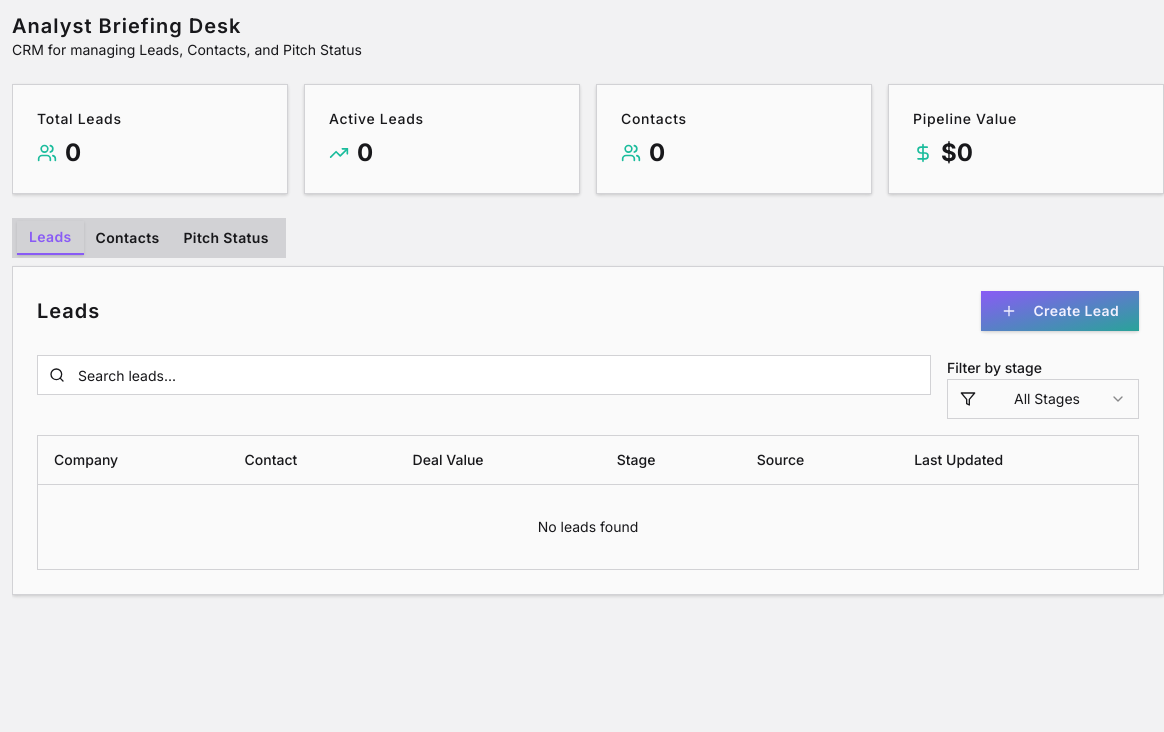
Analyst Briefing Desk - CRM View › Contacts Tab Functionality › BUG: Contacts tab should display stakeholders table
The image size is (1164, 732).
Note: Find and click contacts tab
Click the tab "Contacts": (127, 238) [84,222,171,254]
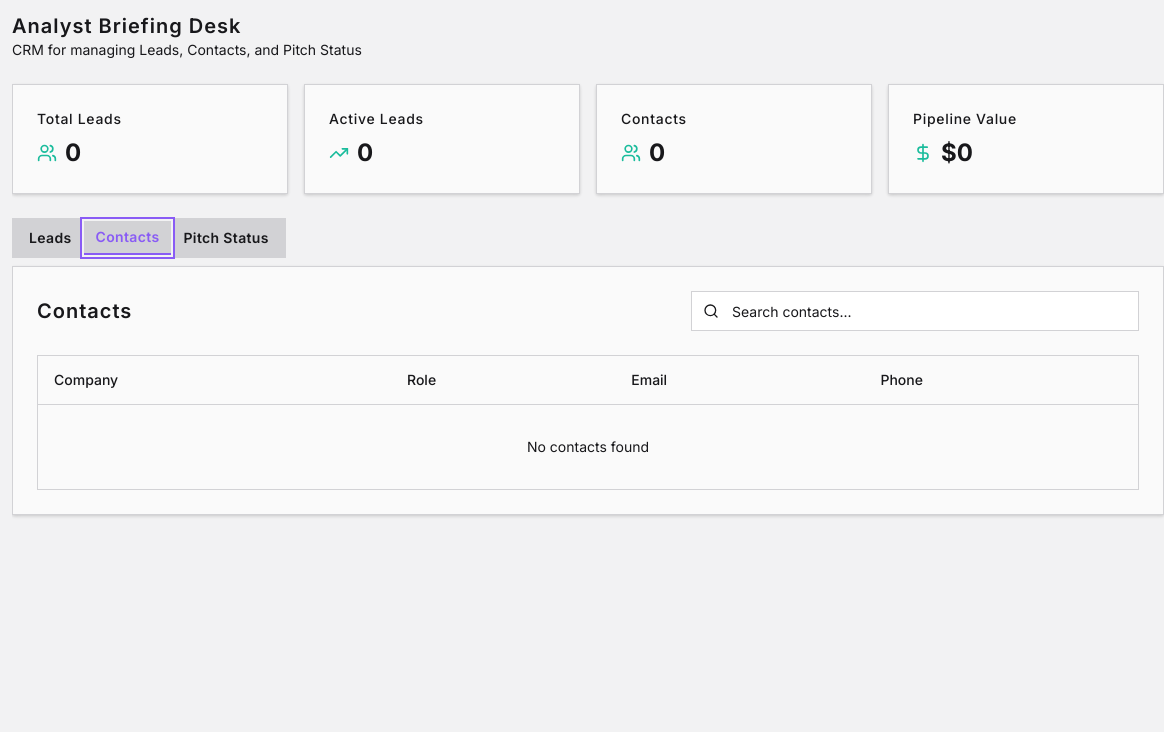
Expected: the column heading "Role" is shown, [391,356,615,404]
Expected: the column heading "Email" is shown, [615,356,864,404]
Expected: the column heading "Phone" is shown, [864,356,1138,404]
